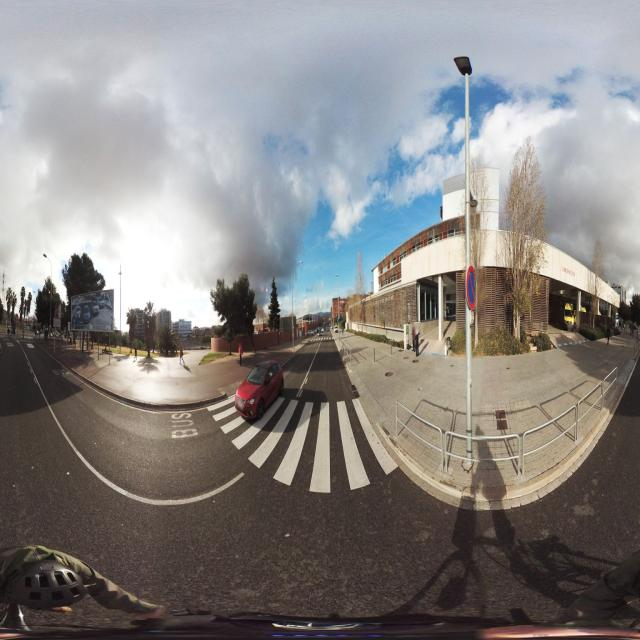forb_stopping: (467, 265, 476, 309)
